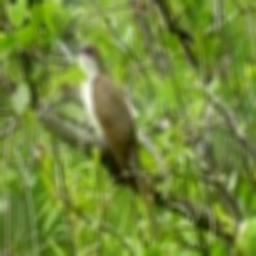Cuckoo: (74, 43, 157, 237)
